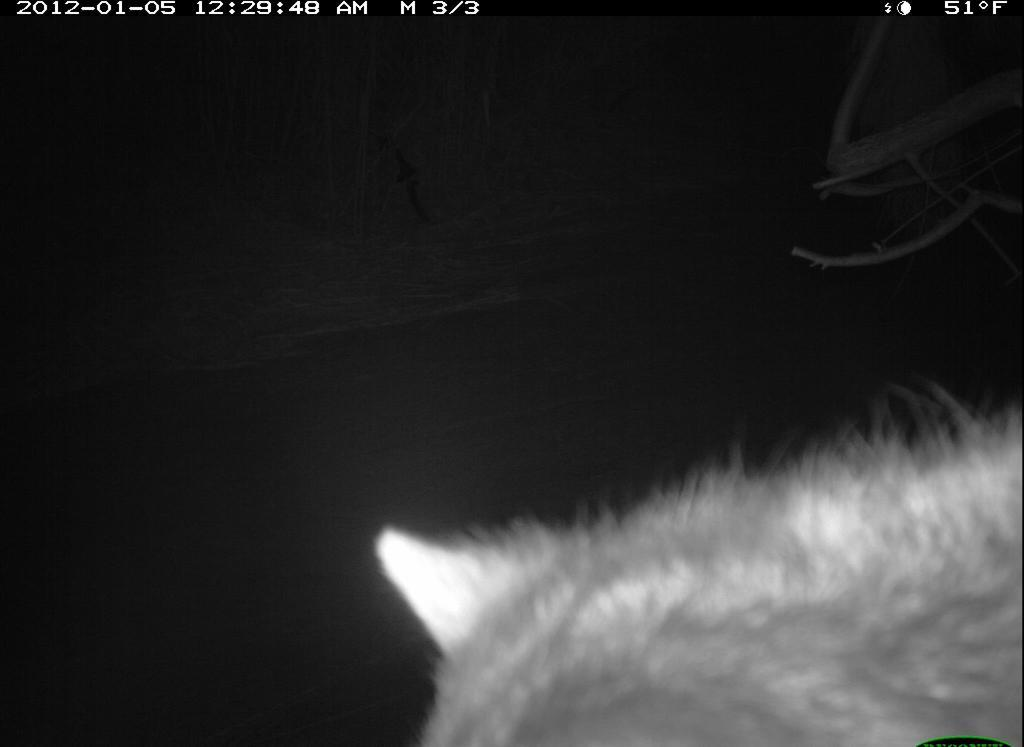raccoon: (363, 370, 1016, 738)
